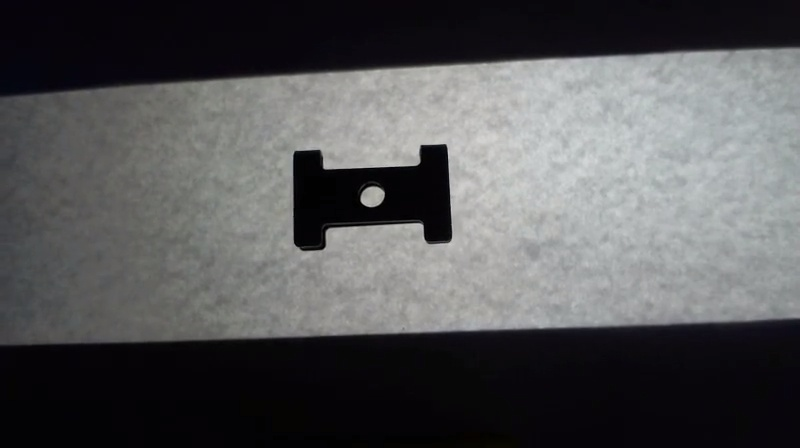O002: (286, 139, 453, 253)
